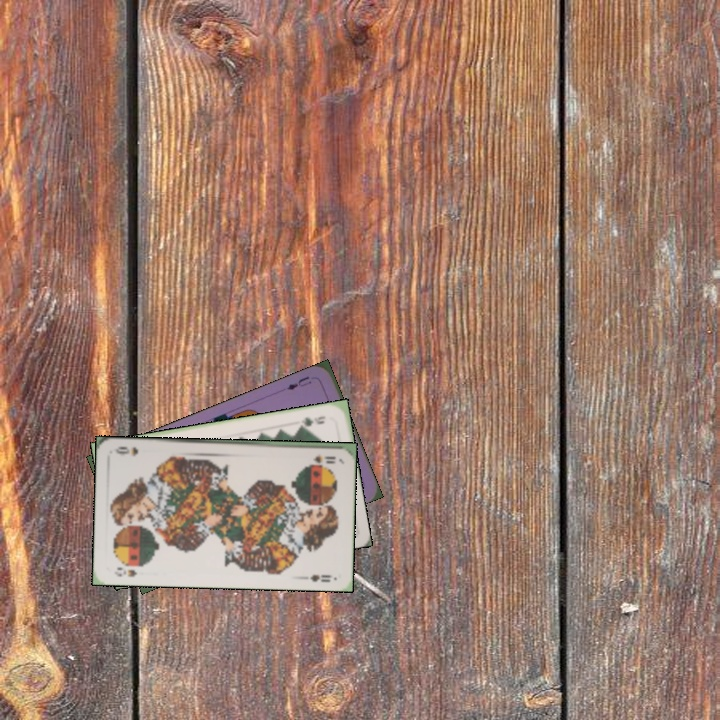EU: (282, 372, 314, 393)
G9: (294, 412, 328, 431)
SO: (111, 563, 139, 579), (309, 452, 338, 465)
